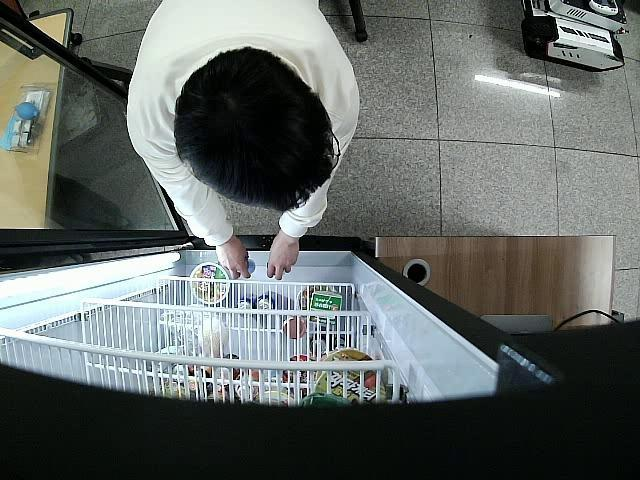13_pocariSweat: (248, 258, 255, 274)
